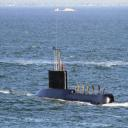submarine: (30, 45, 117, 105)
